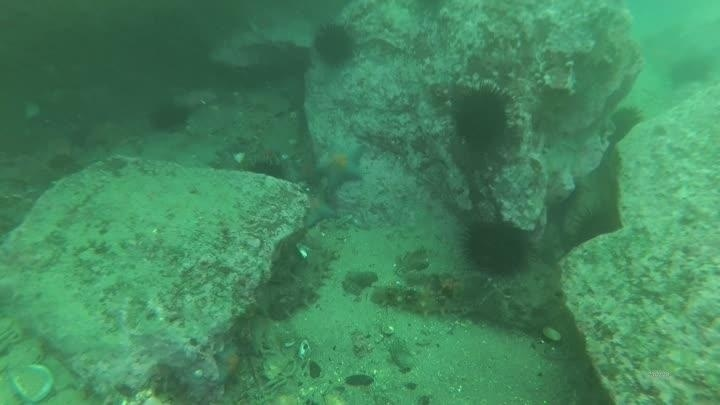echinus: (459, 216, 533, 280), (448, 82, 515, 151), (568, 206, 621, 252), (311, 21, 359, 69), (666, 54, 714, 90), (147, 100, 192, 135), (607, 104, 645, 143), (247, 154, 291, 185)
holothurian: (265, 244, 338, 322), (367, 281, 459, 320)
starfish: (313, 139, 368, 189), (211, 341, 248, 386), (242, 86, 294, 118), (300, 193, 339, 230)
